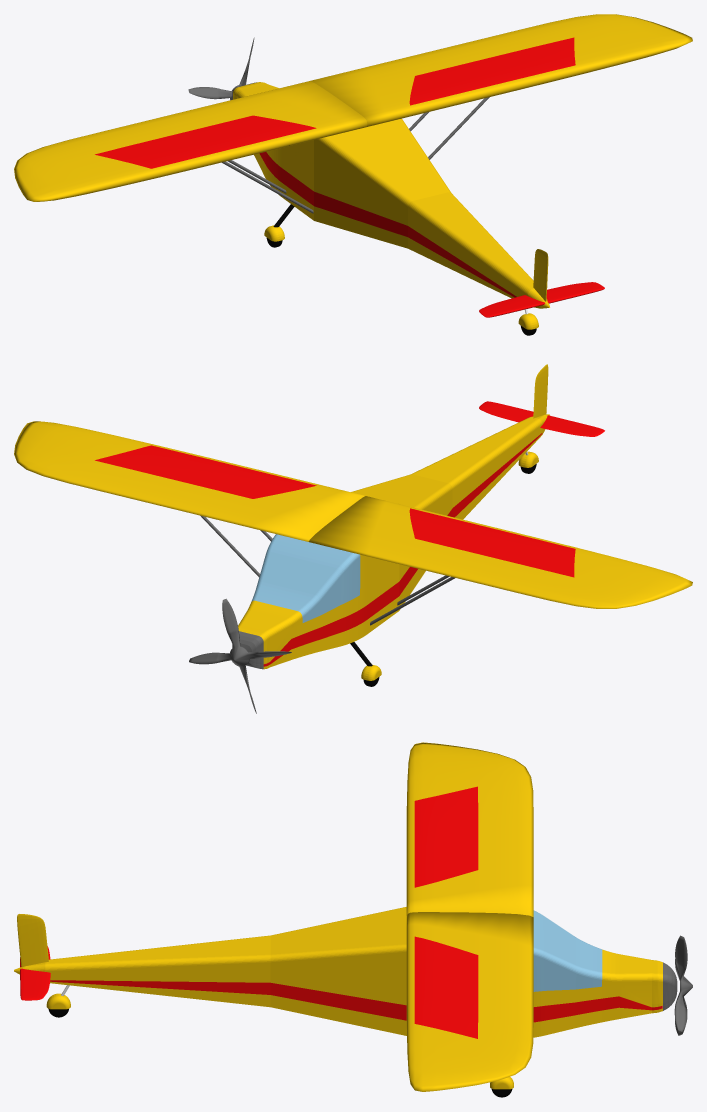
File: qanadyuxarida.fbx
The picture shows the model from 3 angles, top to bottom: view 1: azimuth 30°, elevation 25°; view 2: azimuth 150°, elevation 25°; view 3: azimuth 270°, elevation 25°; orthographic projection. The views are drawn at different scales.
Parts seen in each view (by area): view 1: Cube.001, Cube.040, Cube.042, Cube.008; view 2: Cube.001, Cube.040, Cube.042, Cube.008; view 3: Cube.001, Cube.042, Cube.040, Cube.008.
Part boxes in pixels (x1,y1,x2,y2): Cube.001: (232,82,604,335); Cube.040: (14,81,367,213); Cube.042: (310,14,692,159); Cube.008: (188,37,254,100); Cube.001: (232,364,604,669); Cube.040: (308,496,692,625); Cube.042: (14,421,364,577); Cube.008: (189,598,291,713); Cube.001: (14,907,677,1037); Cube.042: (406,912,533,1091); Cube.040: (406,742,533,916); Cube.008: (674,935,692,1035).
Size of the model in its own units: 2493 by 529 by 2046.
